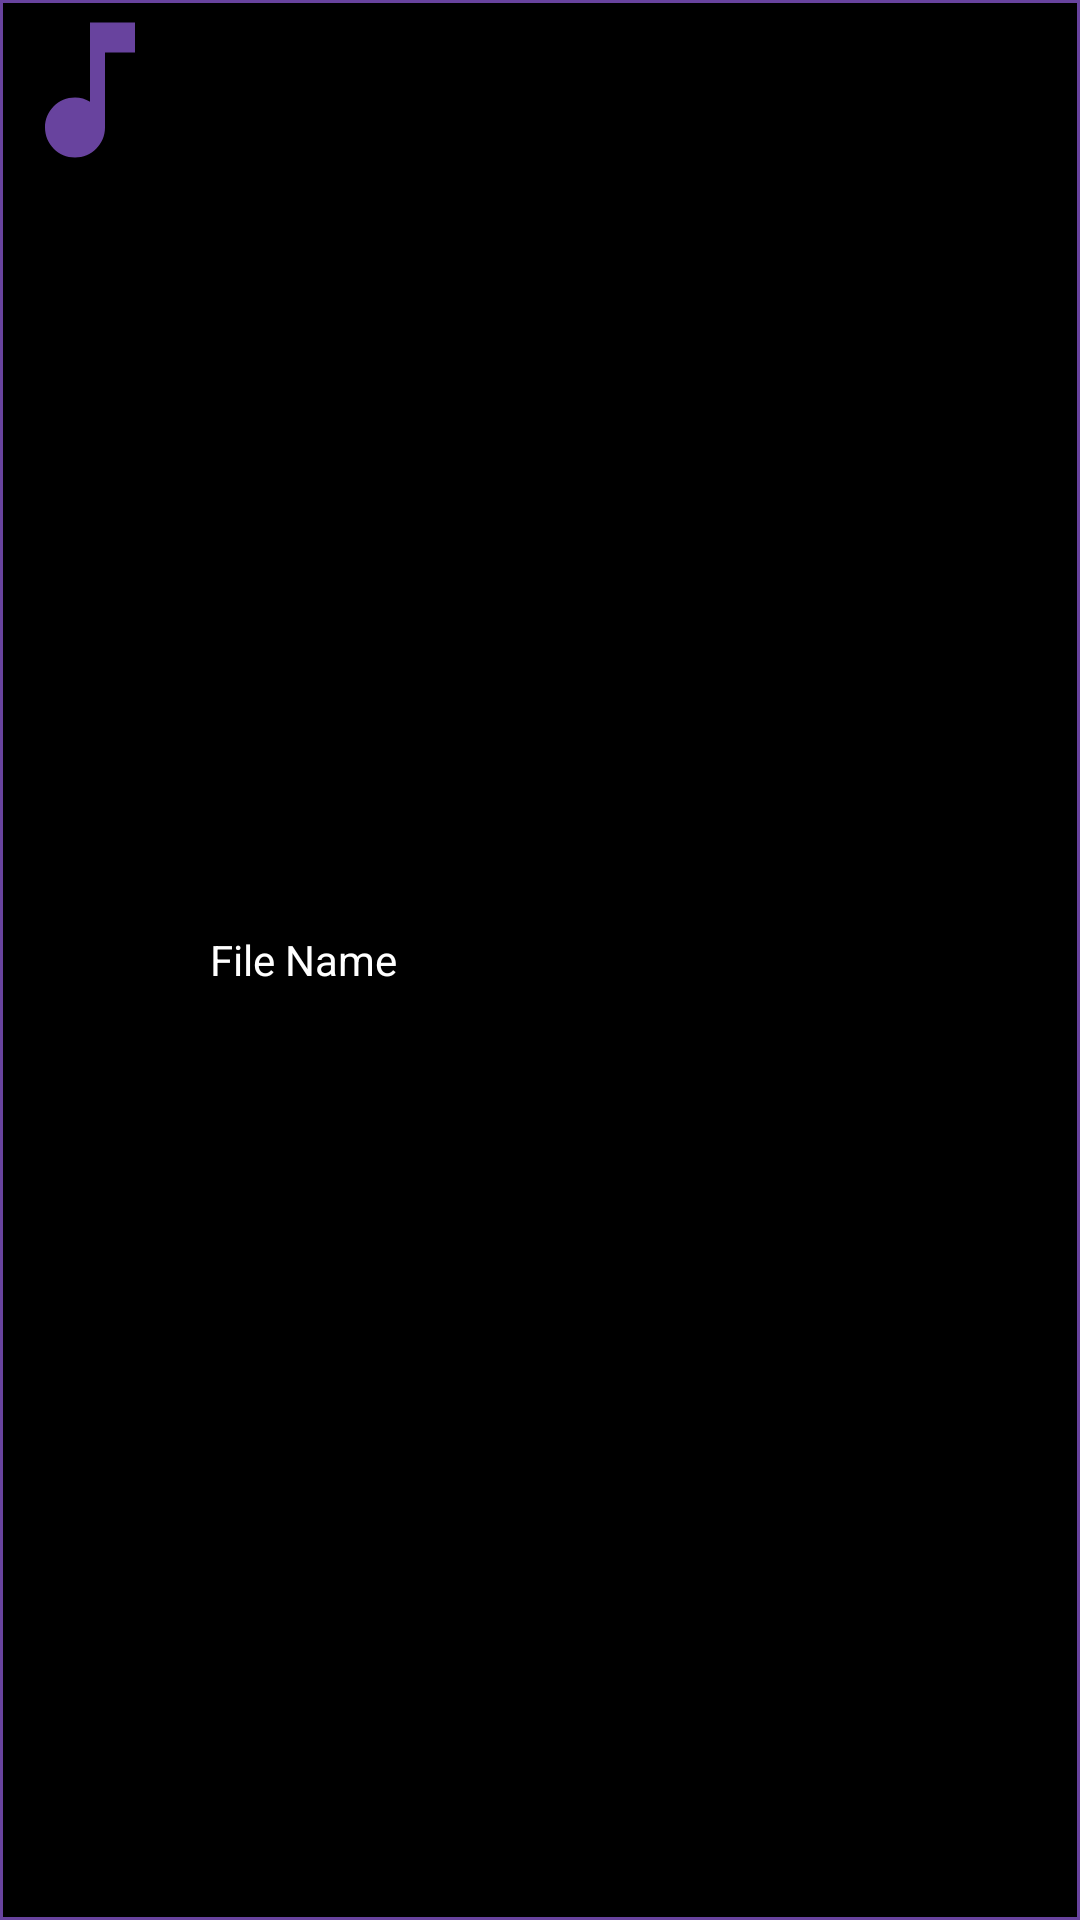

Where icons sit on this 1080px×1920px app screen, as {"left": x1, "top": y1, "right": x2, "bottom": y2}:
music note: {"left": 45, "top": 22, "right": 135, "bottom": 158}
